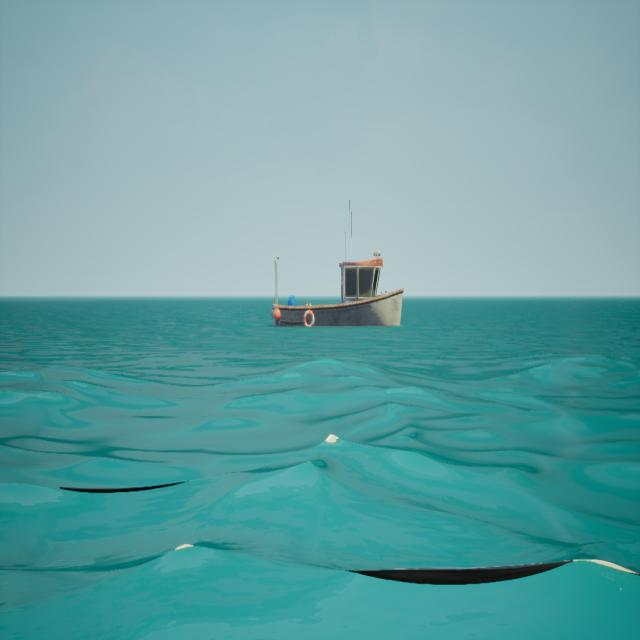ship: (266, 196, 412, 350)
